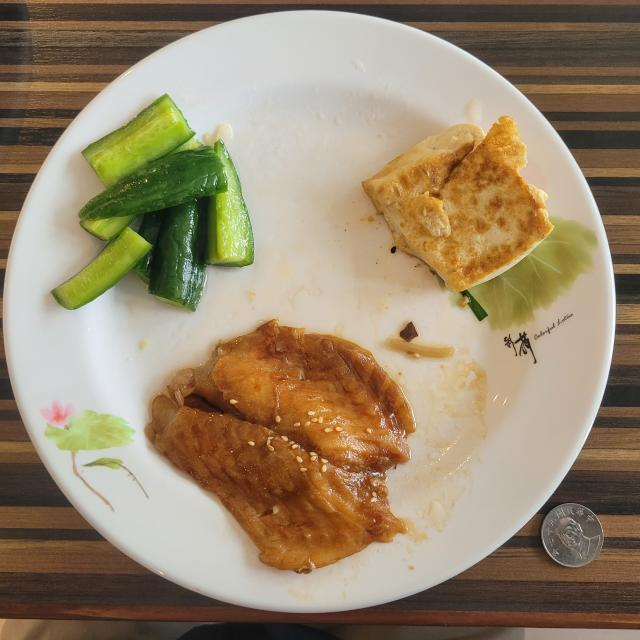Kabayaki sea bream fillet: (145, 320, 415, 572)
coin: (541, 504, 604, 568)
cucumber: (52, 140, 254, 311), (82, 95, 200, 188)
